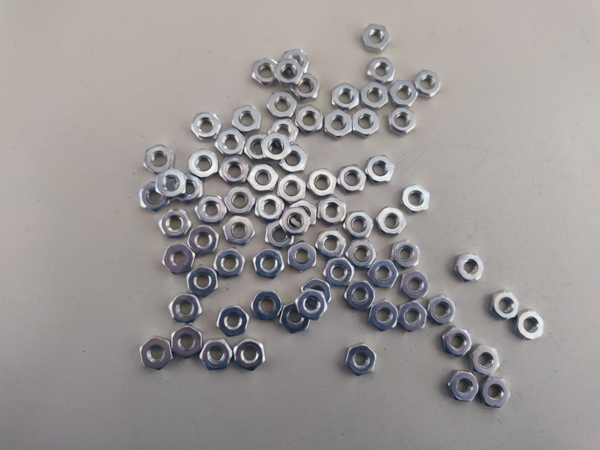nut: (217, 303, 251, 337), (368, 256, 402, 289), (140, 336, 172, 371), (187, 264, 219, 297), (346, 343, 377, 377), (172, 326, 204, 358), (223, 216, 255, 248), (235, 339, 266, 372), (188, 224, 221, 255), (140, 181, 171, 214), (296, 290, 329, 321), (344, 280, 375, 313), (200, 340, 234, 370), (163, 244, 195, 275), (252, 290, 283, 322), (253, 248, 285, 279), (397, 300, 428, 332), (346, 239, 379, 269), (513, 310, 546, 340), (448, 373, 482, 402), (280, 303, 311, 334), (288, 241, 318, 273), (370, 300, 400, 332), (481, 379, 513, 409), (442, 327, 474, 357), (159, 209, 192, 238), (428, 293, 457, 326), (215, 248, 246, 278), (325, 257, 355, 288), (491, 290, 521, 321), (277, 173, 308, 203), (156, 170, 188, 199), (169, 295, 202, 323), (455, 253, 485, 283), (338, 164, 368, 194), (192, 112, 222, 142), (307, 169, 338, 198), (225, 188, 256, 217), (195, 195, 227, 223), (232, 105, 264, 133), (400, 185, 430, 214), (318, 196, 348, 225), (265, 221, 295, 250), (261, 133, 291, 162), (220, 156, 250, 185), (400, 272, 431, 300), (376, 208, 407, 236), (267, 92, 299, 119), (275, 146, 308, 172), (413, 69, 442, 98), (189, 149, 218, 178), (296, 104, 325, 133), (365, 156, 395, 184), (361, 24, 391, 52), (470, 346, 501, 373), (317, 230, 348, 257), (248, 164, 279, 191), (255, 193, 285, 220), (145, 146, 176, 172), (280, 209, 311, 235), (252, 59, 280, 87), (275, 58, 303, 86), (392, 241, 421, 268), (344, 211, 373, 238), (388, 108, 417, 135), (353, 109, 380, 137), (283, 50, 311, 77), (326, 110, 352, 139), (291, 73, 320, 99), (216, 129, 246, 154), (332, 82, 359, 109), (367, 56, 395, 82), (268, 119, 299, 142), (362, 83, 389, 109), (391, 80, 418, 106), (303, 279, 331, 304), (292, 200, 317, 227), (181, 172, 202, 202), (247, 134, 270, 160)
